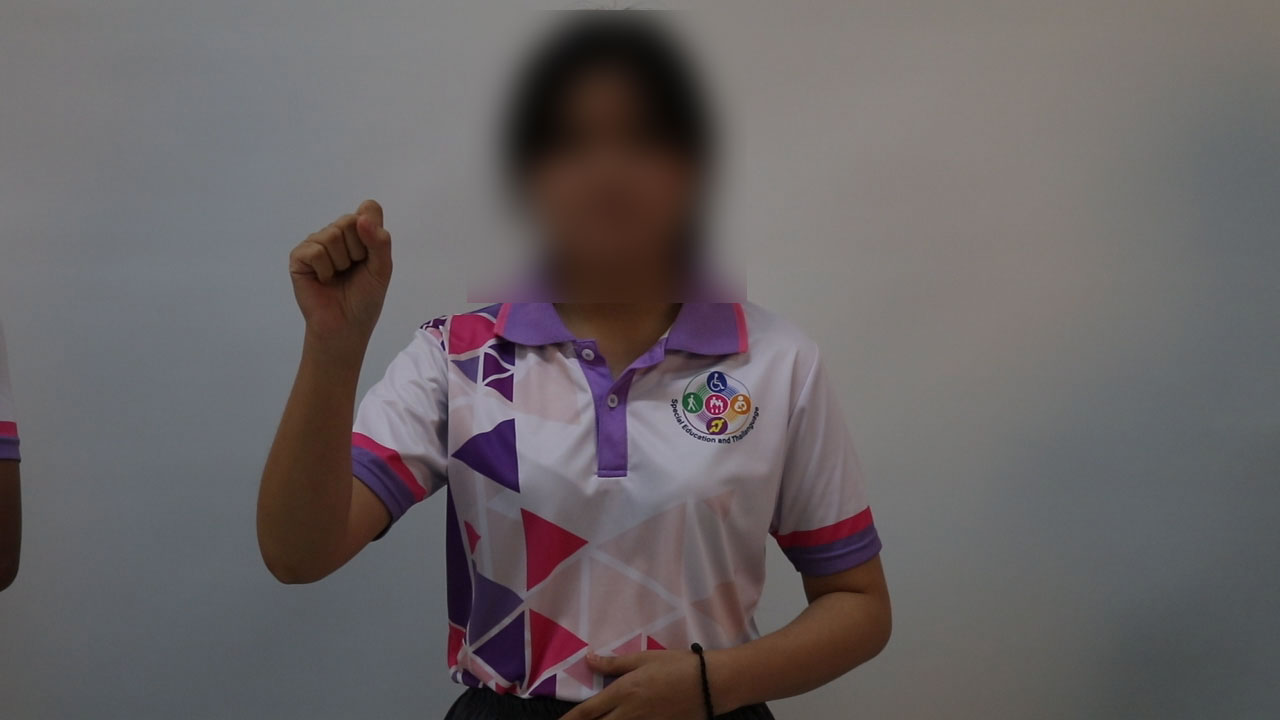sor: (275, 186, 404, 347)
